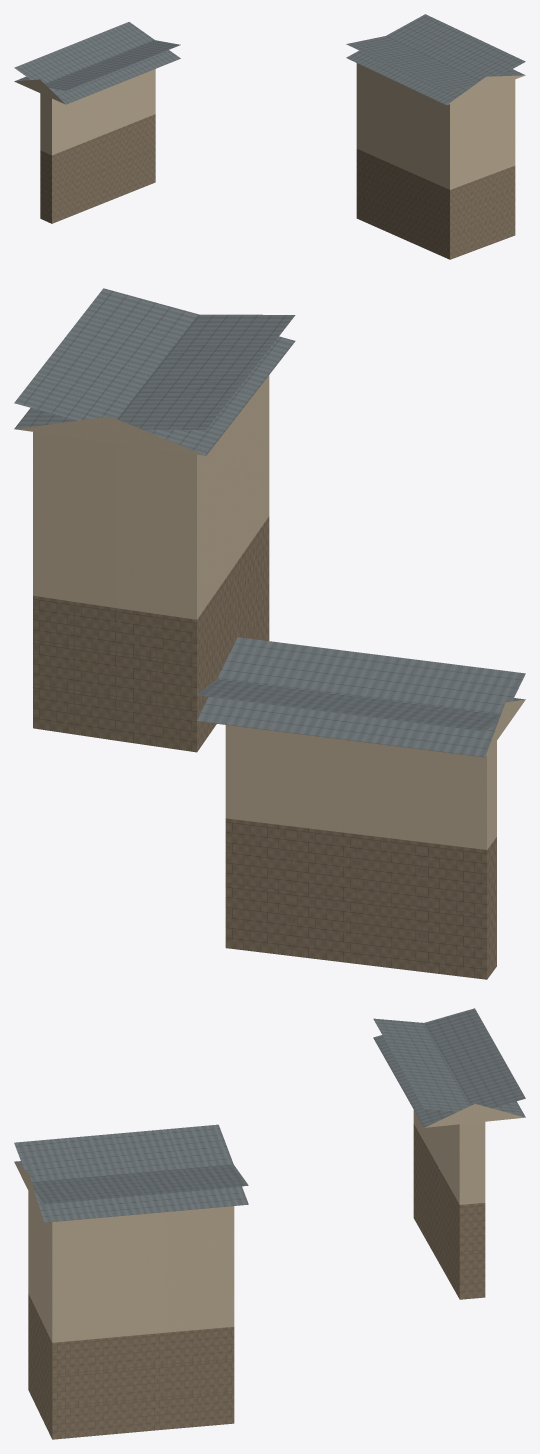
File: bld_c36_-27_438.gltf
The picture shows the model from 3 angles, top to bottom: view 1: azimuth 30°, elevation 25°; view 2: azimuth 150°, elevation 25°; view 3: azimuth 270°, elevation 25°; orthographic projection. The views are drawn at different scales.
Visible parts, largest first — view 1: bld_c36_-27_438; view 2: bld_c36_-27_438; view 3: bld_c36_-27_438.
Part boxes in pixels (x1,y1,x2,y2): bld_c36_-27_438: (14,14,525,259); bld_c36_-27_438: (14,288,525,979); bld_c36_-27_438: (14,1008,525,1439).
Bounding box in the file's own units: 27.23 × 12.9 × 24.44.
Materials: 4 (4 with a texture image).
